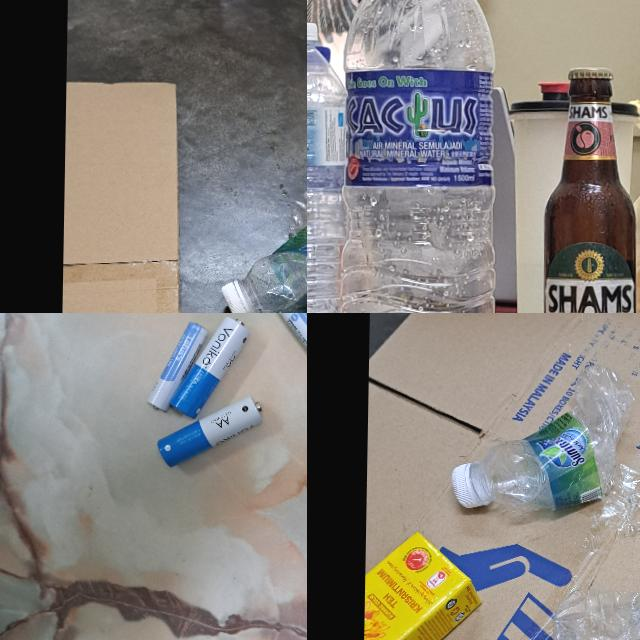bateria: (156, 391, 264, 470), (167, 313, 249, 417), (144, 318, 209, 411), (278, 313, 307, 382)
caixinha: (362, 531, 480, 640)
garrafa de vidro: (540, 65, 640, 313)
garrafa plástica: (337, 0, 501, 313), (450, 357, 630, 519), (554, 467, 640, 640), (307, 40, 347, 313), (222, 187, 307, 313)
papelão: (359, 313, 640, 640), (55, 78, 187, 313)
tampa plástica: (452, 460, 493, 510), (222, 278, 255, 313), (307, 22, 318, 40)
